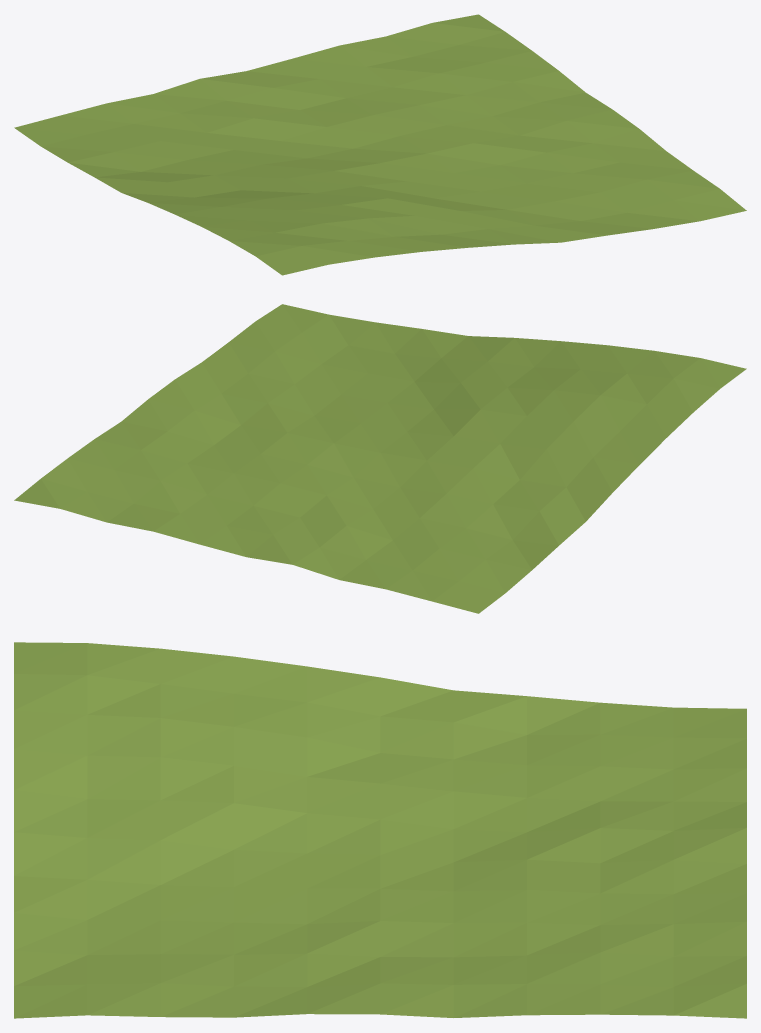
The model's file is terrain-plane_02-3.fbx.
3 renders of one model, top to bottom at view 1: azimuth 30°, elevation 25°; view 2: azimuth 150°, elevation 25°; view 3: azimuth 270°, elevation 25°, orthographic. The views are drawn at different scales.
Visible parts, largest first — view 1: terrain-plane_02-3; view 2: terrain-plane_02-3; view 3: terrain-plane_02-3.
Boxes of the visible parts, x1,y1,x2,y2 form: terrain-plane_02-3: (14, 14, 746, 275); terrain-plane_02-3: (14, 304, 746, 613); terrain-plane_02-3: (14, 642, 746, 1018).
Bounding box in the file's own units: 2000 × 202 × 2000.
